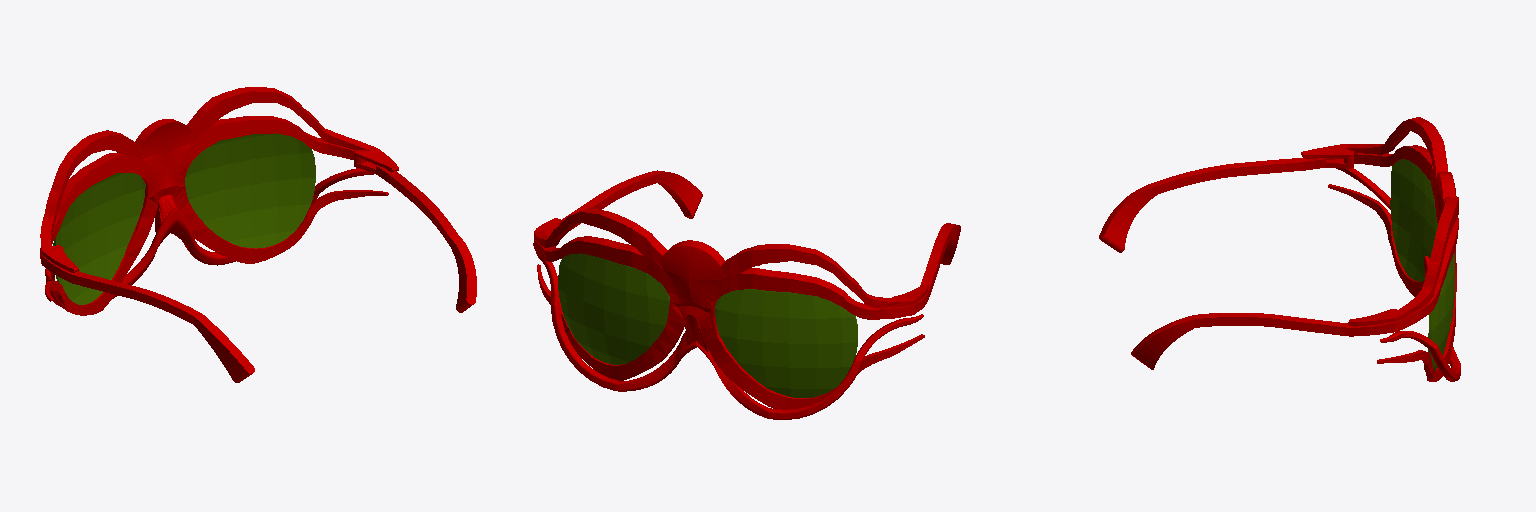
File: sunglasses.obj
3 views of the same model, side by side, from view 1: azimuth 30°, elevation 25°; view 2: azimuth 150°, elevation 25°; view 3: azimuth 270°, elevation 25° (orthographic).
Visible parts, largest first — view 1: Mesh1 Component_1_1 Funny_sunglasses1 Model, Mesh3 Component_4_2 Funny_sunglasses1 Model, Mesh2 Component_4_1 Funny_sunglasses1 Model, Mesh5 Component_2_2 Sunglasses_left_hinge1 Funny_sunglasses1 Mod, Mesh4 Component_2_1 Sunglasses_hinge1 Funny_sunglasses1 Model; view 2: Mesh1 Component_1_1 Funny_sunglasses1 Model, Mesh2 Component_4_1 Funny_sunglasses1 Model, Mesh3 Component_4_2 Funny_sunglasses1 Model, Mesh4 Component_2_1 Sunglasses_hinge1 Funny_sunglasses1 Model, Mesh5 Component_2_2 Sunglasses_left_hinge1 Funny_sunglasses1 Mod; view 3: Mesh1 Component_1_1 Funny_sunglasses1 Model, Mesh5 Component_2_2 Sunglasses_left_hinge1 Funny_sunglasses1 Mod, Mesh2 Component_4_1 Funny_sunglasses1 Model, Mesh4 Component_2_1 Sunglasses_hinge1 Funny_sunglasses1 Model, Mesh3 Component_4_2 Funny_sunglasses1 Model.
Part boxes in pixels (x1,y1,x2,y2): Mesh1 Component_1_1 Funny_sunglasses1 Model: (40, 87, 388, 315); Mesh3 Component_4_2 Funny_sunglasses1 Model: (185, 133, 315, 248); Mesh2 Component_4_1 Funny_sunglasses1 Model: (53, 173, 145, 304); Mesh5 Component_2_2 Sunglasses_left_hinge1 Funny_sunglasses1 Mod: (46, 245, 254, 382); Mesh4 Component_2_1 Sunglasses_hinge1 Funny_sunglasses1 Model: (354, 149, 476, 312); Mesh1 Component_1_1 Funny_sunglasses1 Model: (533, 208, 924, 419); Mesh2 Component_4_1 Funny_sunglasses1 Model: (715, 289, 857, 397); Mesh3 Component_4_2 Funny_sunglasses1 Model: (558, 253, 669, 364); Mesh4 Component_2_1 Sunglasses_hinge1 Funny_sunglasses1 Model: (536, 170, 702, 247); Mesh5 Component_2_2 Sunglasses_left_hinge1 Funny_sunglasses1 Mod: (892, 223, 960, 311); Mesh1 Component_1_1 Funny_sunglasses1 Model: (1328, 117, 1460, 381); Mesh5 Component_2_2 Sunglasses_left_hinge1 Funny_sunglasses1 Mod: (1099, 145, 1353, 252); Mesh2 Component_4_1 Funny_sunglasses1 Model: (1390, 159, 1437, 281); Mesh4 Component_2_1 Sunglasses_hinge1 Funny_sunglasses1 Model: (1131, 309, 1396, 369); Mesh3 Component_4_2 Funny_sunglasses1 Model: (1428, 253, 1454, 370).
Bounding box in the file's own units: 127 × 57.54 × 110.